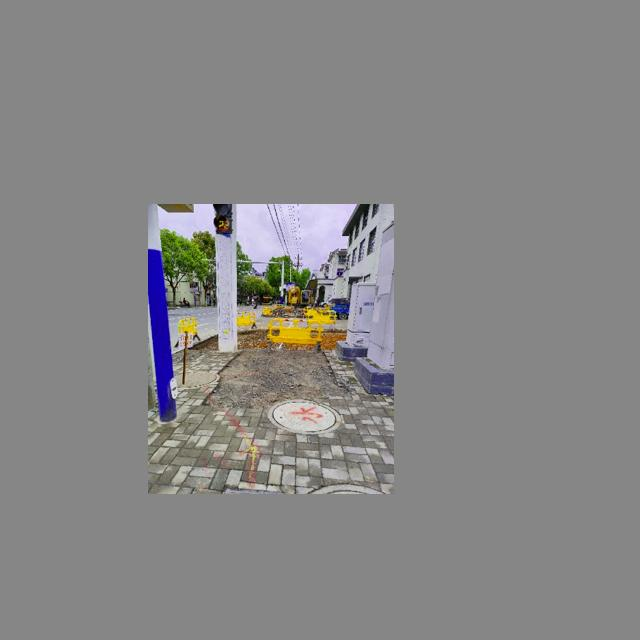good: (268, 398, 342, 432), (173, 371, 219, 387)
